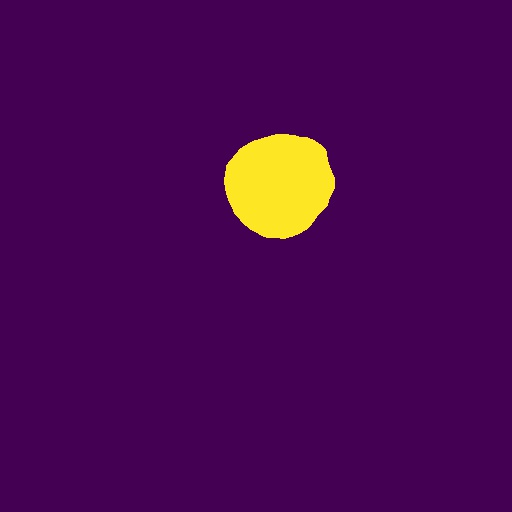Menigiomia_tumour: (224, 134, 335, 239)
